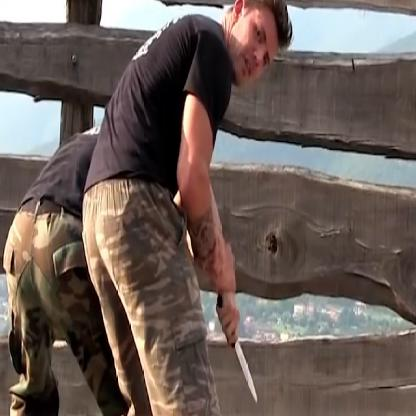knife: (213, 294, 262, 414)
